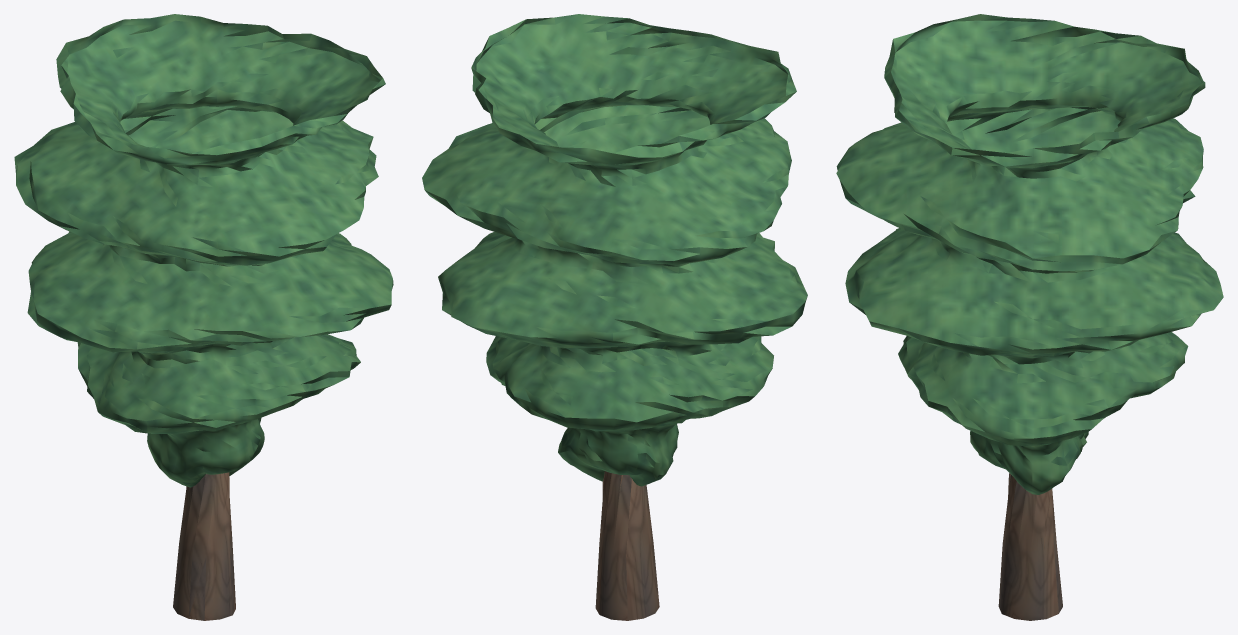
File: tree_pine-d6npddtk.glb
3 renders of one model, left to right at view 1: azimuth 30°, elevation 25°; view 2: azimuth 150°, elevation 25°; view 3: azimuth 270°, elevation 25°, orthographic.
Parts seen in each view (by area): view 1: pine_needles, pine_trunk; view 2: pine_needles, pine_trunk; view 3: pine_needles, pine_trunk.
Part boxes in pixels (bbox=[...]): pine_needles: bbox=[14, 14, 393, 487]; pine_trunk: bbox=[173, 472, 235, 620]; pine_needles: bbox=[422, 14, 807, 486]; pine_trunk: bbox=[595, 471, 659, 620]; pine_needles: bbox=[836, 14, 1223, 494]; pine_trunk: bbox=[998, 473, 1062, 620].
Size of the model in its own units: 1.95 by 2.9 by 1.93.
2 materials, 2 textured.
